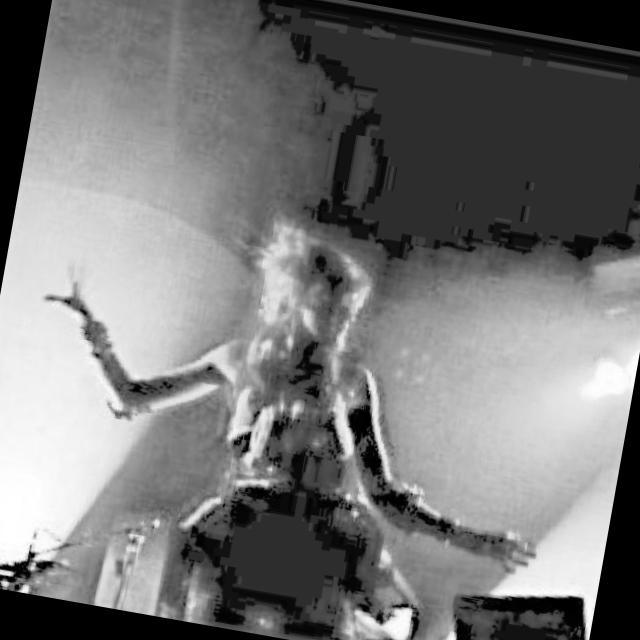Person: (0, 179, 584, 640)
